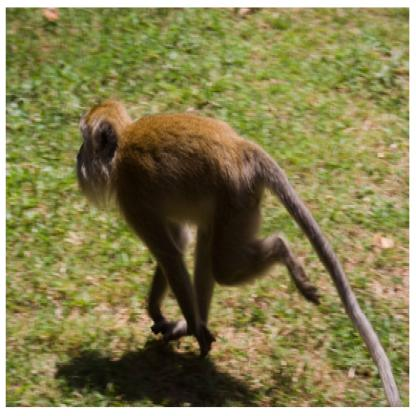monkey: (71, 95, 404, 407)
